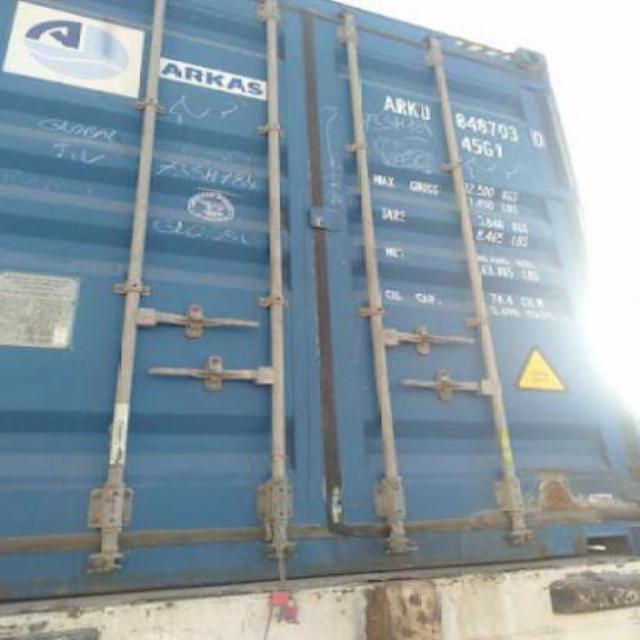0: (530, 128, 546, 148), (498, 120, 508, 140)
3: (508, 121, 522, 142)
4: (466, 111, 476, 132)
7: (488, 117, 498, 135)
8: (476, 114, 488, 134), (454, 111, 466, 129)
A: (382, 91, 396, 112)
K: (408, 95, 420, 118)
R: (396, 92, 408, 116)
U: (418, 100, 434, 122)
